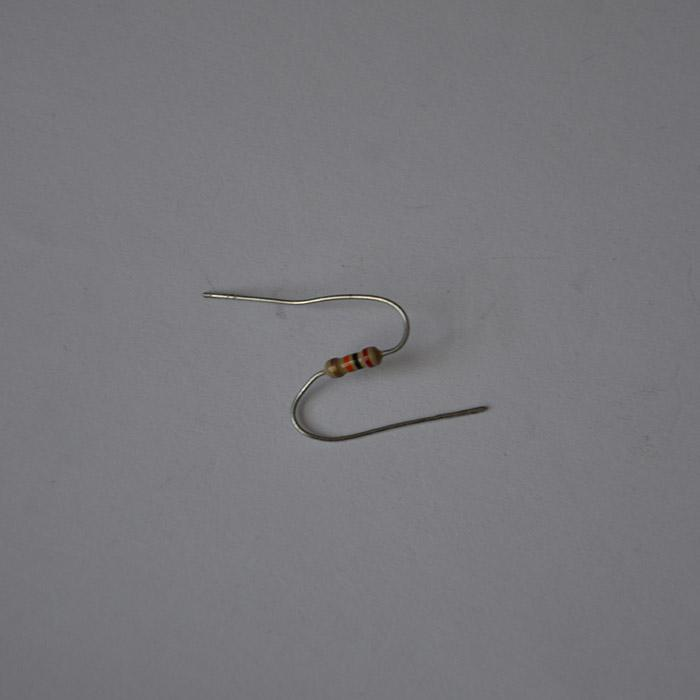resistor: (324, 344, 384, 378)
